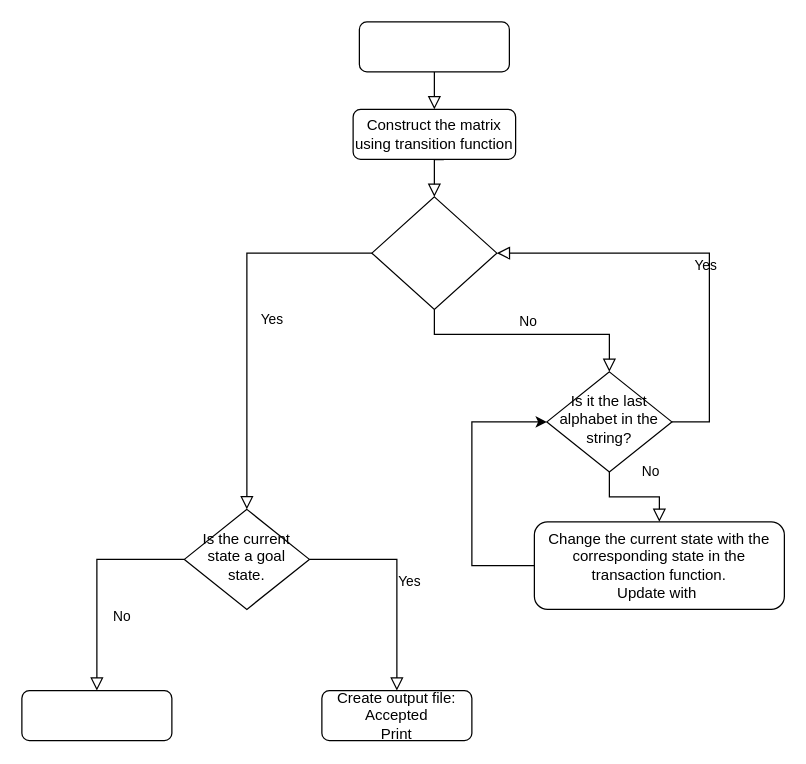
This 806x764 diagram has some shape labels left out. The shapes that lost their labels are listed below. From the top down, each one's centre as x and y in pixels, then its label:
At point 433,46: "Read Input".
At point 434,252: "Is it the last string to be detected?".
At point 96,715: "Create output file: Rejected. Print".
